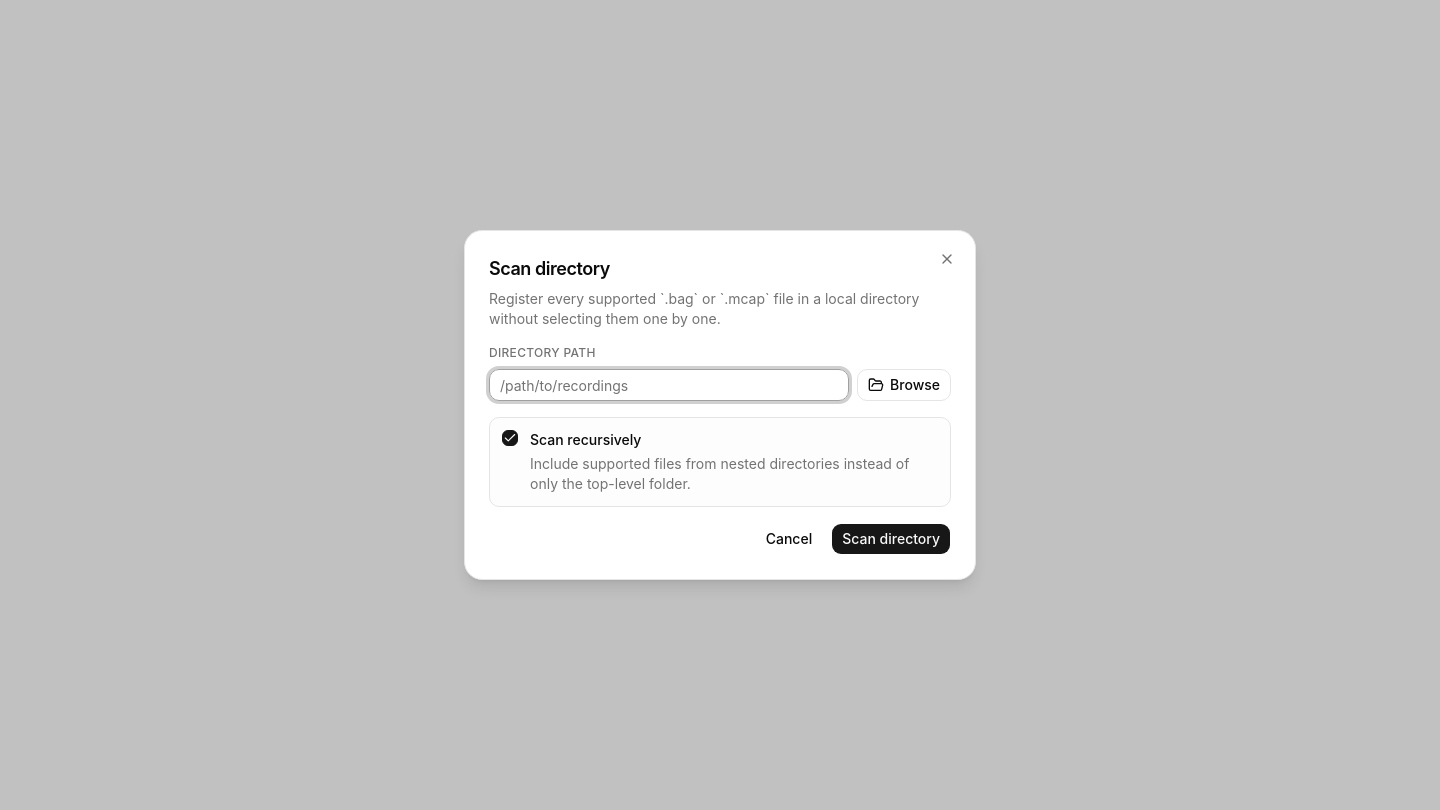
Scenario: InventoryScanDialog › shows a directory-picker error instead of silently ignoring native dialog failures
Click the button "Browse": {"x": 904, "y": 385} x1=857 y1=369 x2=951 y2=401
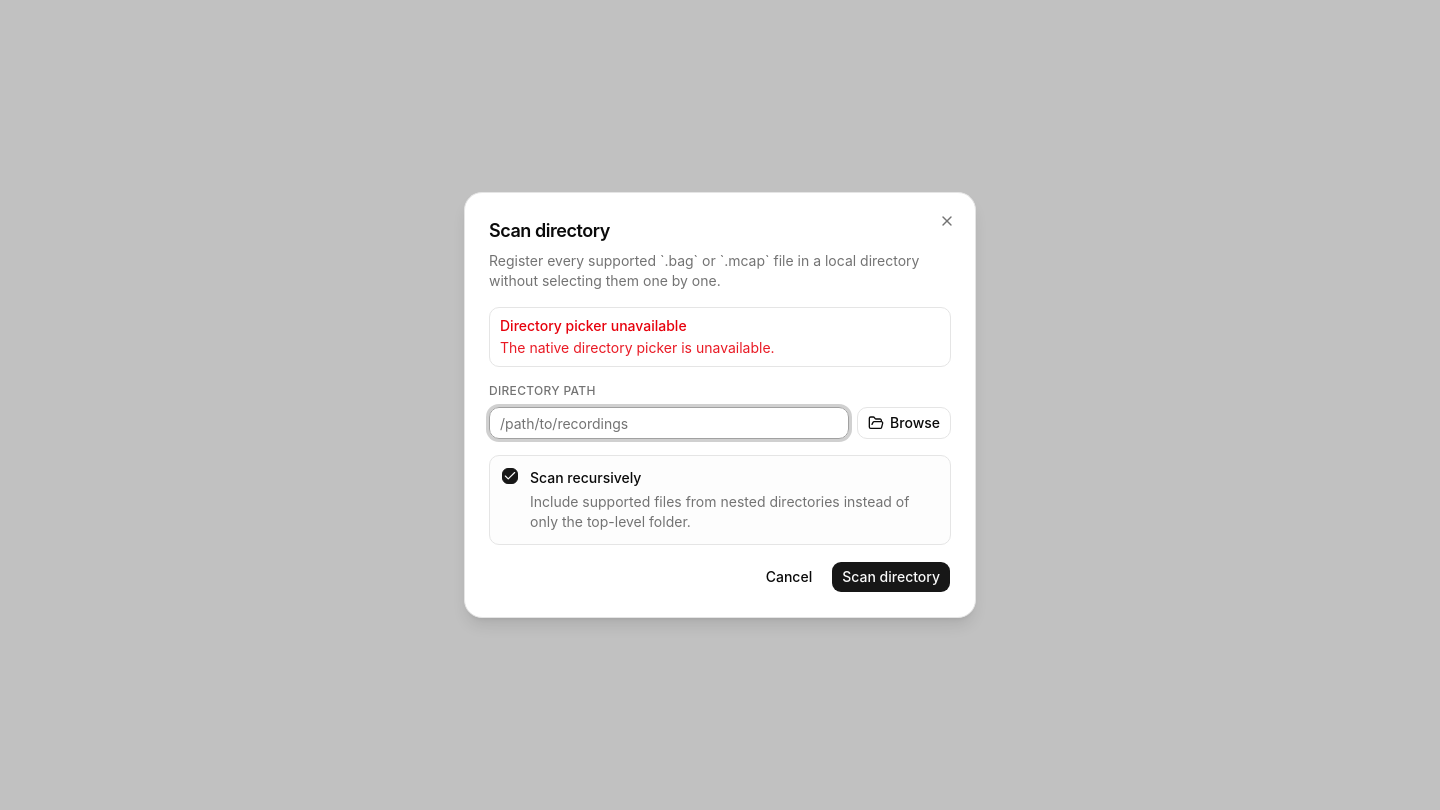
expect the text "Directory picker unavailable" is shown: met, box x1=500 y1=317 x2=687 y2=334
expect the text "The native directory picker is unavailable." is shown: met, box x1=500 y1=339 x2=775 y2=356
